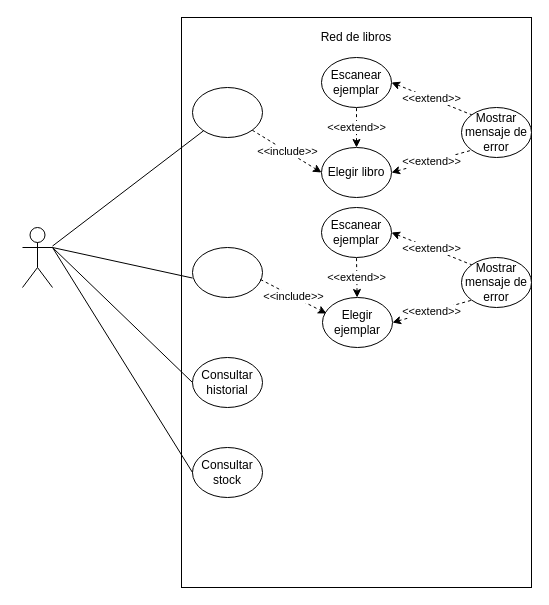
Image size: 549x605. Some labels were removed from this diagram. The centre of each missing label's shape, as x and y in pixels:
"Devolver libro" goes at pixel 227 272.
"Entregar libro" goes at pixel 227 112.
"Usuario" goes at pixel 37 257.
